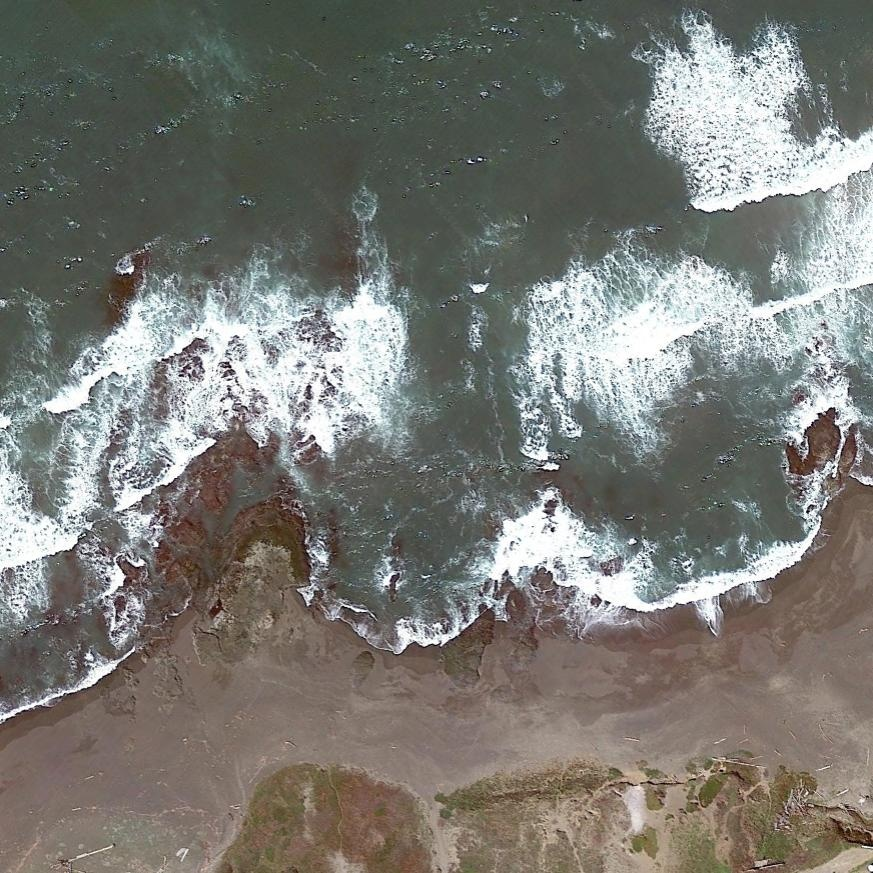rip_current: (233, 139, 625, 540)
